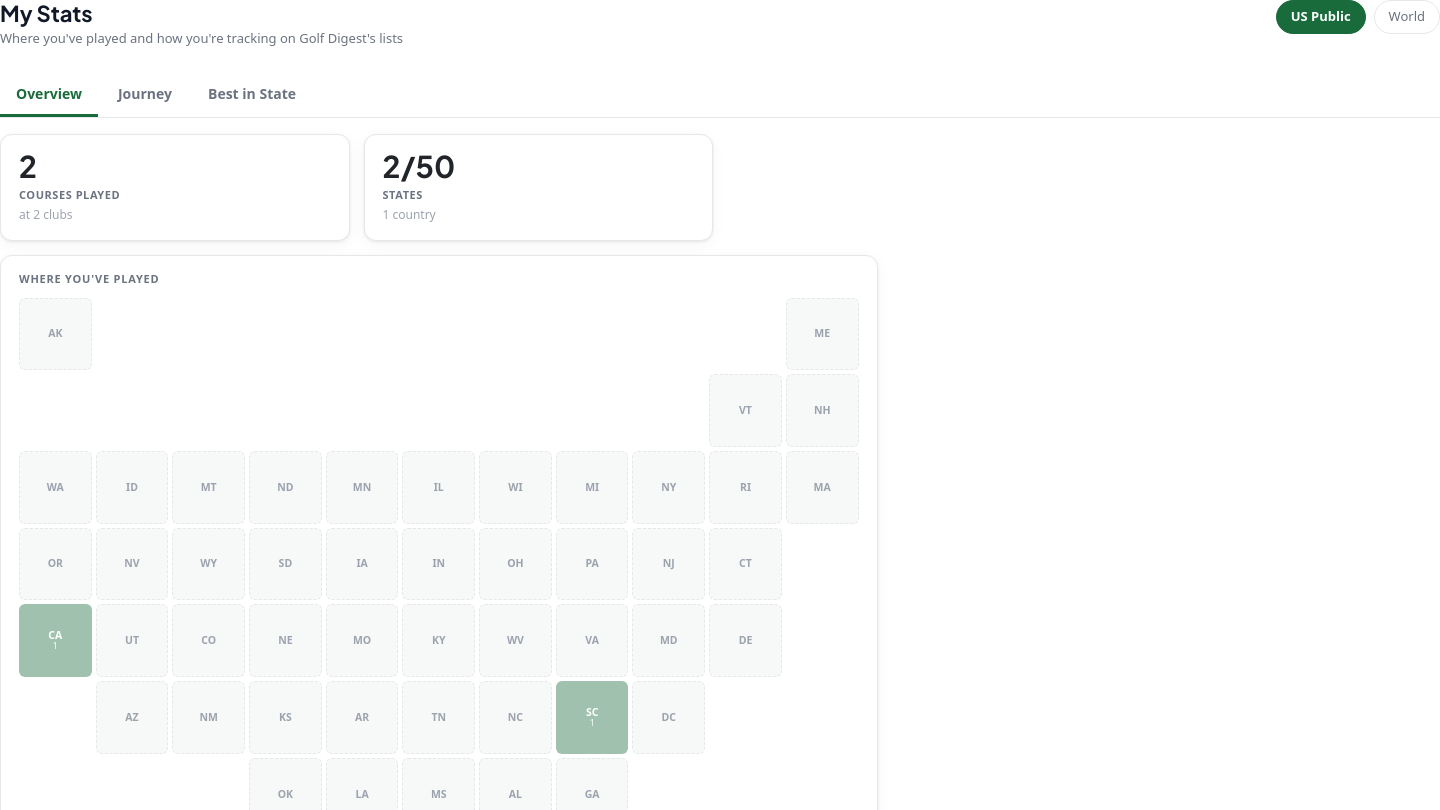
Test: Stats Best in State › switches the Progress by state chart style
The width and height of the screenshot is (1440, 810).
Click the tab "Best in State": click(252, 95) [192, 73, 312, 117]
(page scrolled)
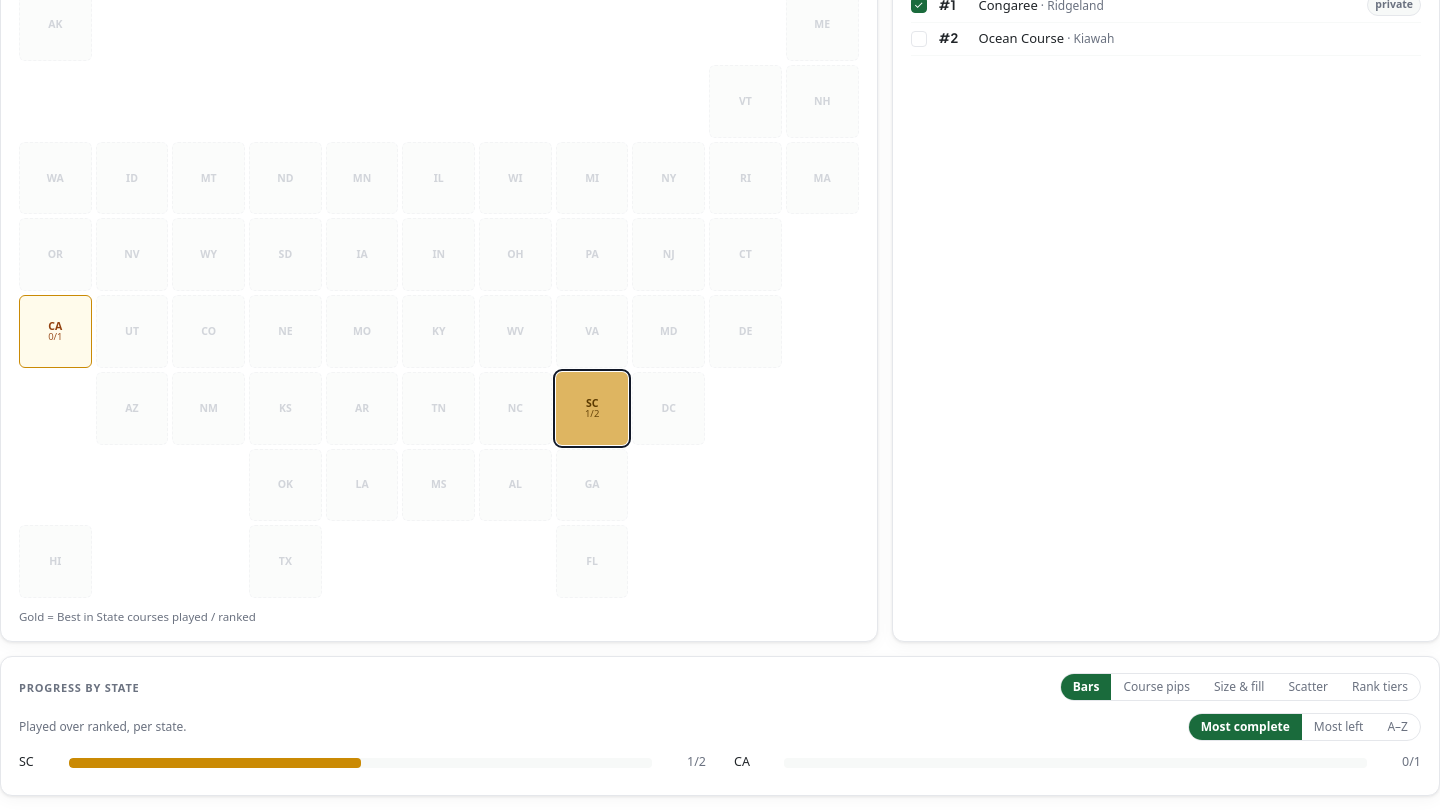
Click the button "Course pips": click(1157, 687) [1112, 674, 1202, 700]
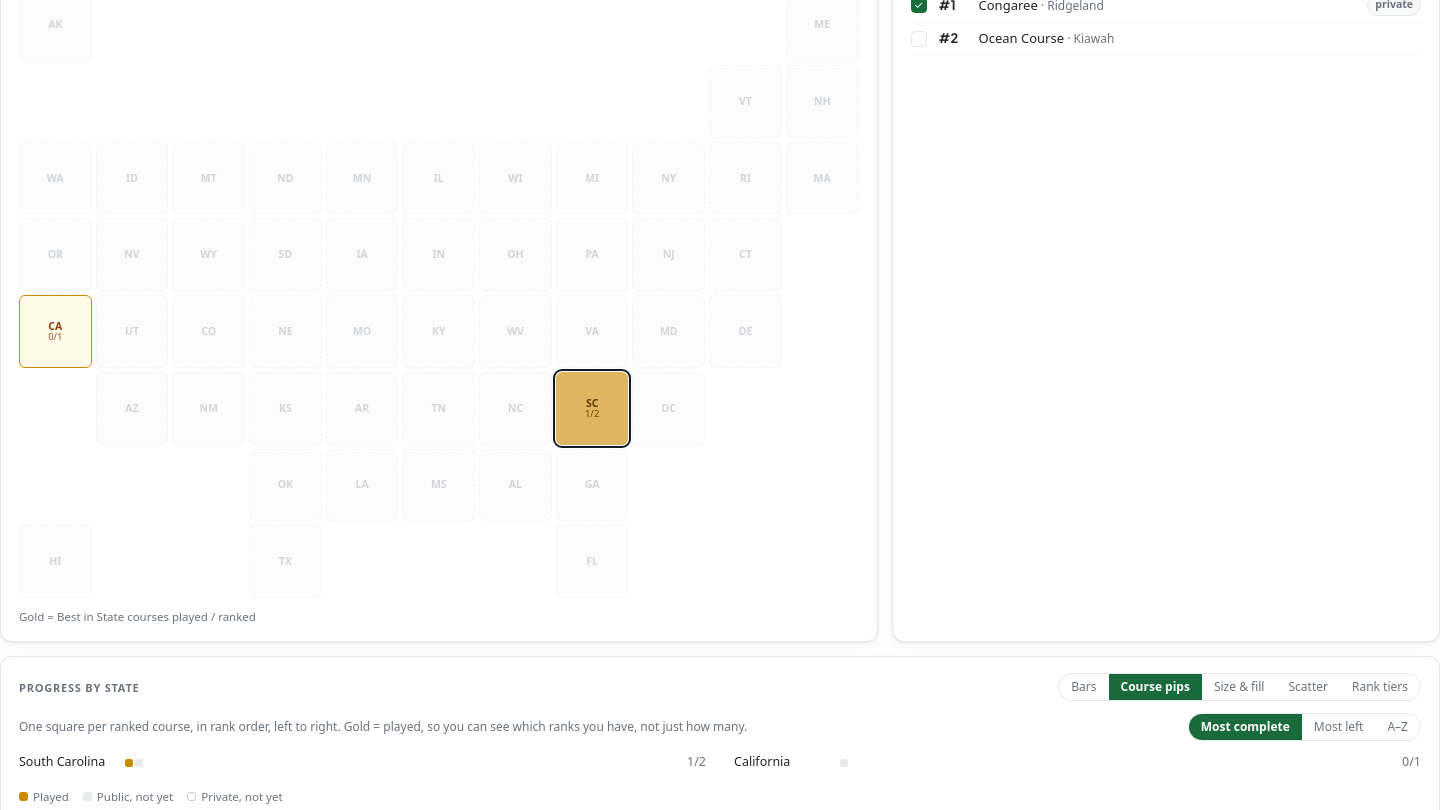
Result: the text "One square per ranked course" is shown at [19, 718, 747, 735]
Click the button "Rank tiers": click(1380, 687) [1340, 674, 1420, 700]
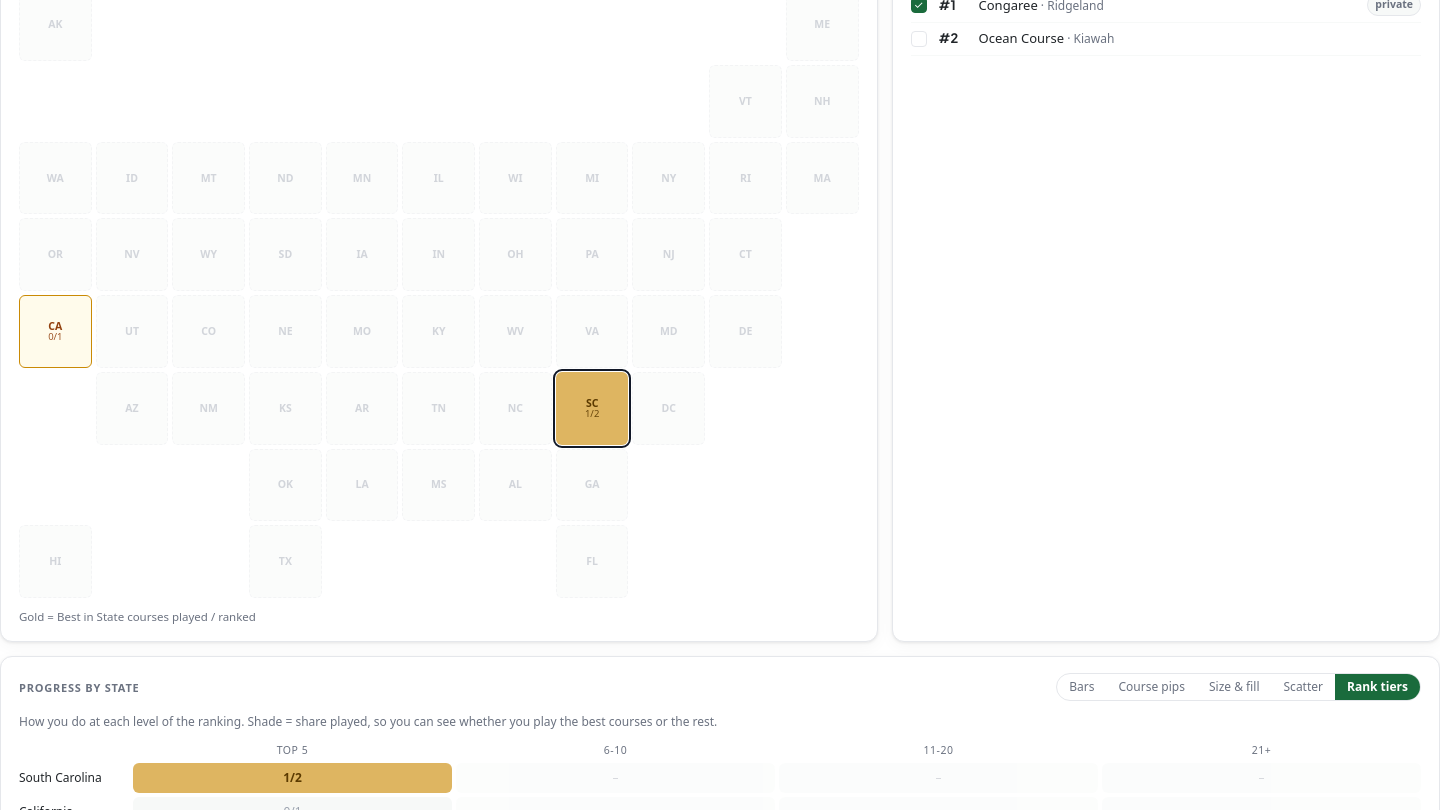
Result: the text "Top 5" is shown at [277, 743, 308, 757]
Click the button "Scatter": click(1303, 687) [1272, 674, 1335, 700]
(page scrolled)
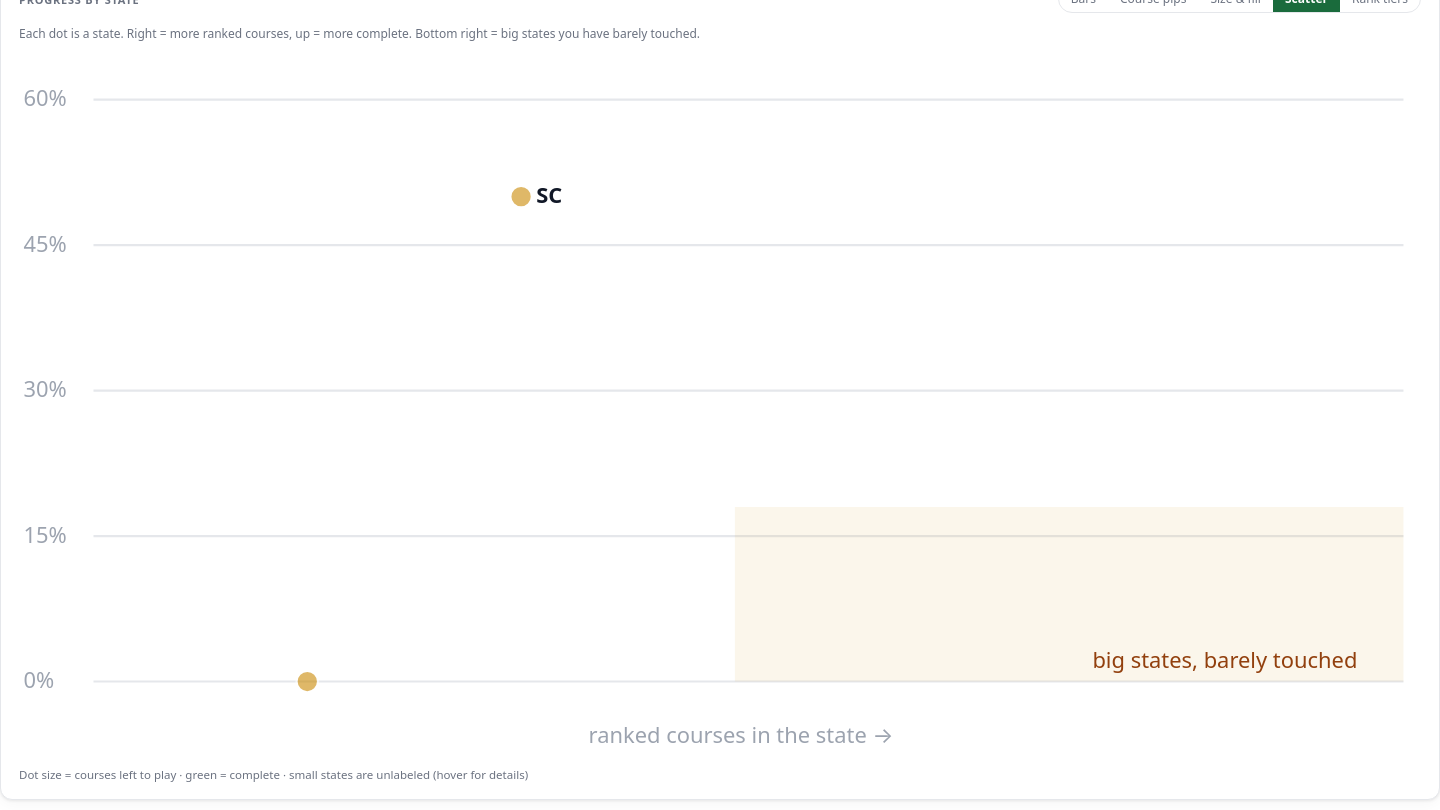
Result: the picture named "Best in State progress by state size" is shown
